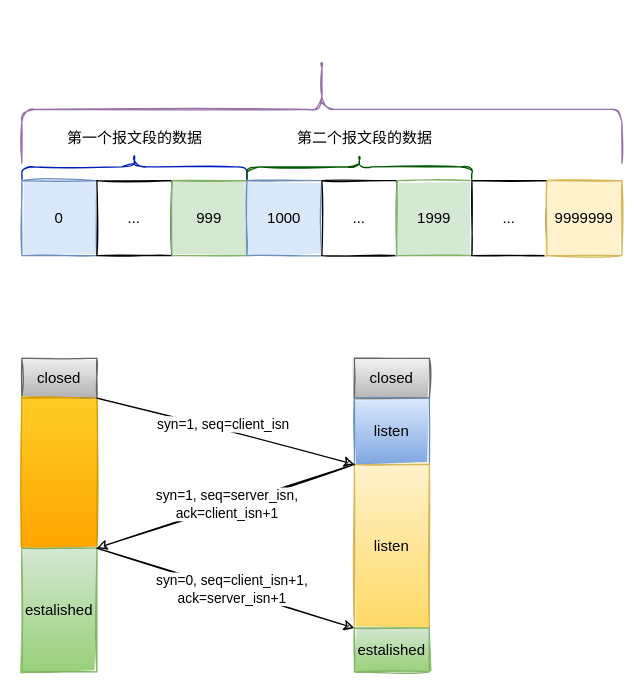
This 644x694 diagram has some shape labels left out. The box of each missing label's shape, as (x1, y1, x2, y2) in pixels:
syn_sent: (21, 397, 97, 548)
文件: (21, 54, 622, 163)
